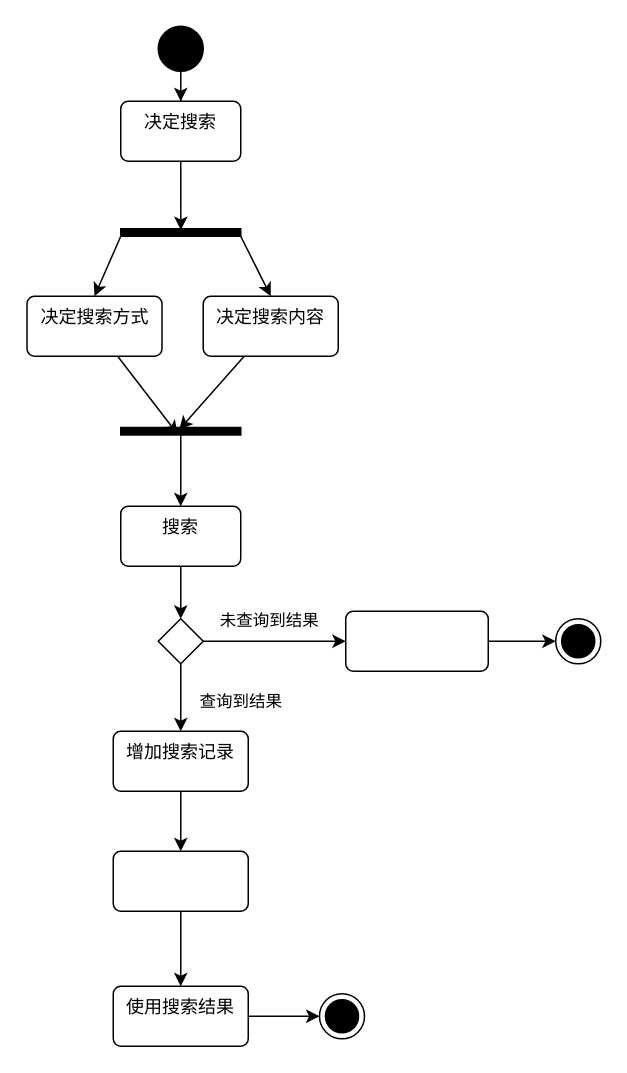
Image size: 627x1073. Some labels were removed from this diagram. Here are the shapes that lost their labels. From the top down, the centre of each, then its label:
At [416,640]: "告知用户失败".
At [180,880]: "显示搜索结果".
